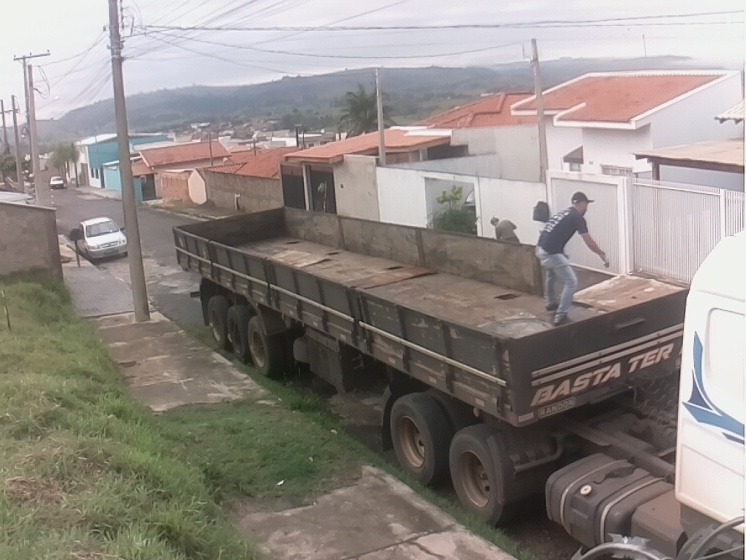person: (535, 191, 609, 326), (490, 215, 519, 245)
